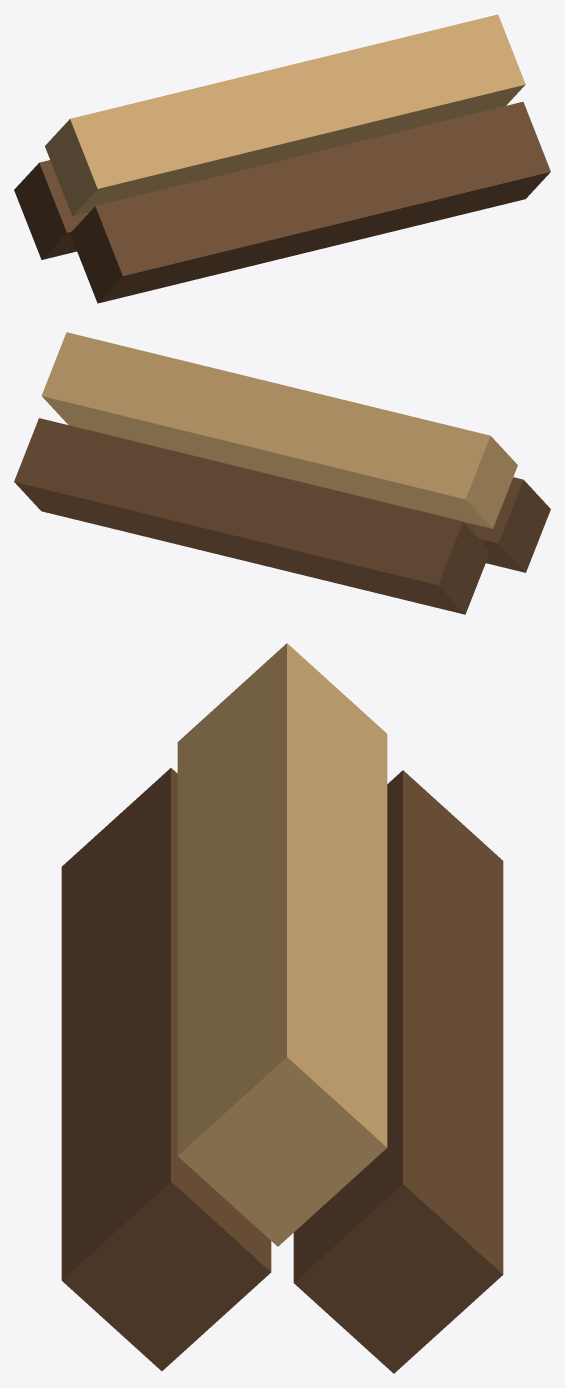
File: firewood.glb
3 renders of one model, top to bottom at view 1: azimuth 30°, elevation 25°; view 2: azimuth 150°, elevation 25°; view 3: azimuth 270°, elevation 25°, orthographic. The views are drawn at different scales.
Parts seen in each view (by area): view 1: firewood; view 2: firewood; view 3: firewood.
Part boxes in pixels (x1,y1,x2,y2): firewood: [14, 14, 550, 303]; firewood: [14, 332, 550, 614]; firewood: [61, 643, 503, 1373].
Bounding box in the file's own units: 0.3836 × 0.1363 × 0.1713.
